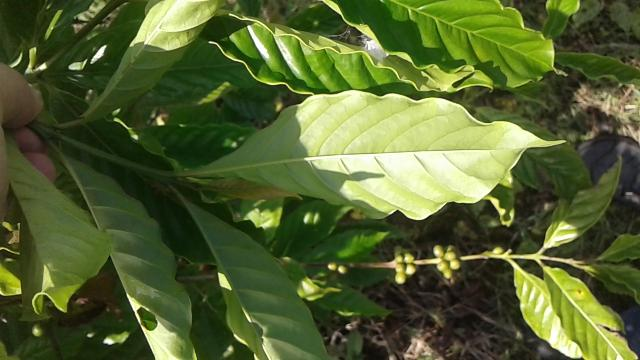healthy: (190, 90, 570, 224)
